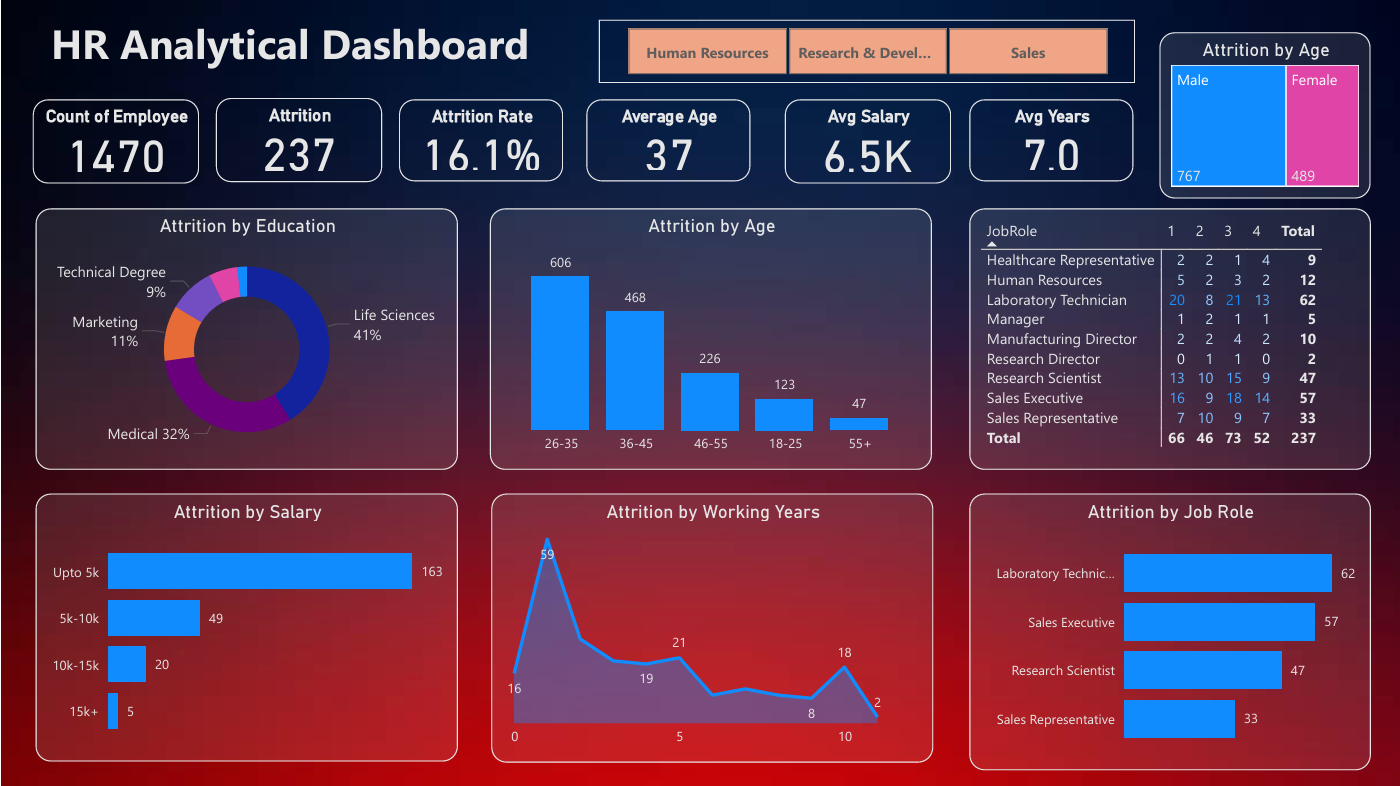

This screenshot's page, from the dashboard's own definition file:
{"tool":"powerbi","page":{"name":"Page 1","canvas":[1280,720],"ordinal":0},"visuals":[{"type":"card","title":"Count  of Employee","fields":{"Values":["CountNonNull(HR_Analytics.EmpID)"]},"box":[27.6,90.6,151.9,76.7],"z":0},{"type":"card","title":"Attrition","fields":{"Values":["Sum(HR_Analytics.AttritionCount)"]},"box":[194.9,89,151.9,76.7],"z":1000},{"type":"card","title":"Attrition Rate","fields":{"Values":["HR_Analytics.AttritionRate"]},"box":[362.2,90.6,150.4,75.2],"z":2000},{"type":"card","title":"Average Age","fields":{"Values":["Avg(HR_Analytics.Age)"]},"box":[534.1,90.6,150.4,75.2],"z":3000},{"type":"card","title":"Avg Salary","fields":{"Values":["Avg(HR_Analytics.MonthlyIncome)"]},"box":[715.2,90.6,151.9,76.7],"z":4000},{"type":"card","title":"Avg Years","fields":{"Values":["Avg(HR_Analytics.YearsAtCompany)"]},"box":[884,90.6,150.4,75.2],"z":5000},{"type":"donutChart","title":"Attrition by Education","fields":{"Category":["HR_Analytics.EducationField"],"Y":["CountNonNull(HR_Analytics.Attrition)"]},"box":[30.2,190.6,386.1,238.9],"z":6000},{"type":"columnChart","title":"Attrition by Age","fields":{"Category":["HR_Analytics.AgeGroup"],"Y":["CountNonNull(HR_Analytics.Attrition)"]},"box":[446.4,190.6,404.2,238.9],"z":7000},{"type":"pivotTable","fields":{"Rows":["HR_Analytics.JobRole"],"Columns":["HR_Analytics.JobSatisfaction"],"Values":["Sum(HR_Analytics.AttritionCount)"]},"box":[884.3,190.6,366.8,238.9],"z":8000},{"type":"barChart","title":"Attrition by Salary","fields":{"Category":["HR_Analytics.SalarySlab"],"Y":["Sum(HR_Analytics.AttritionCount)"]},"box":[30.2,451.2,386.1,244.9],"z":9000},{"type":"barChart","title":"Attrition by Job Role","fields":{"Category":["HR_Analytics.JobRole"],"Y":["Sum(HR_Analytics.AttritionCount)"]},"box":[884.3,451.2,366.8,253.4],"z":10000},{"type":"areaChart","title":"Attrition by Working Years","fields":{"Category":["HR_Analytics.YearsAtCompany"],"Y":["Sum(HR_Analytics.AttritionCount)"]},"box":[447.6,451.2,404.2,246.1],"z":11000},{"type":"treemap","title":"Attrition by Age","fields":{"Group":["HR_Analytics.Gender"],"Values":["CountNonNull(HR_Analytics.Attrition)"]},"box":[1057.5,29.2,193.4,151.9],"z":12000},{"type":"slicer","fields":{"Values":["HR_Analytics.Department"]},"box":[544.8,18.4,489.6,58.3],"z":13000},{"type":"textbox","box":[39.9,9.2,472.7,67.5],"z":14000}]}

Visuals, with their boxes in screenshot pixels (x1, y1, x2, y2), scaled from the page's 1280x720 canvas onto the 1400x786 screenshot:
"Count  of Employee" card: 30/99/196/183
"Attrition" card: 213/97/379/181
"Attrition Rate" card: 396/99/561/181
"Average Age" card: 584/99/749/181
"Avg Salary" card: 782/99/948/183
"Avg Years" card: 967/99/1131/181
"Attrition by Education" donutChart: 33/208/455/469
"Attrition by Age" columnChart: 488/208/930/469
pivotTable - HR_Analytics.JobRole x HR_Analytics.JobSatisfaction: 967/208/1368/469
"Attrition by Salary" barChart: 33/493/455/760
"Attrition by Job Role" barChart: 967/493/1368/769
"Attrition by Working Years" areaChart: 490/493/932/761
"Attrition by Age" treemap: 1157/32/1368/198
slicer - HR_Analytics.Department: 596/20/1131/84
textbox: 44/10/561/84
